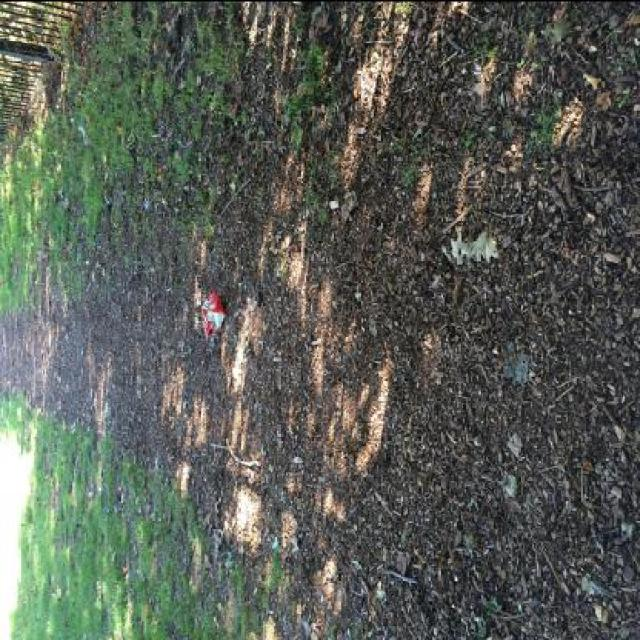plastic: (201, 290, 225, 339)
